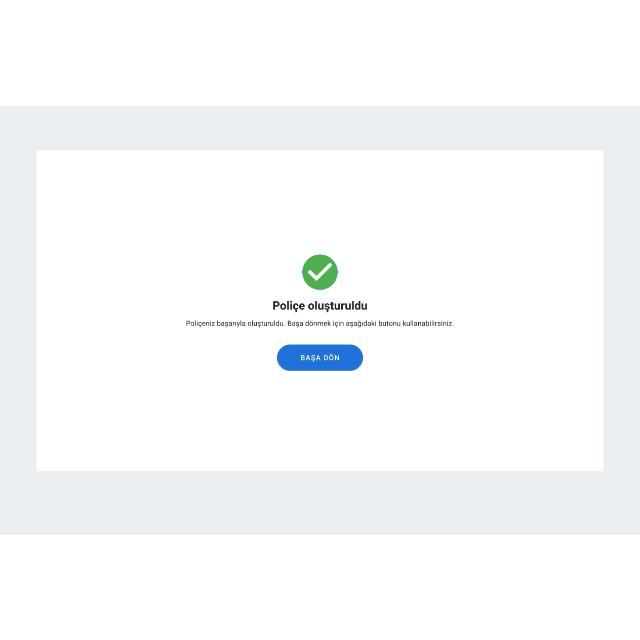QLabel: (183, 318, 454, 328), (270, 298, 368, 310), (300, 353, 340, 363)
VBtn: (276, 344, 364, 371)
VCard: (36, 150, 604, 472)
VImg: (300, 253, 340, 291)
